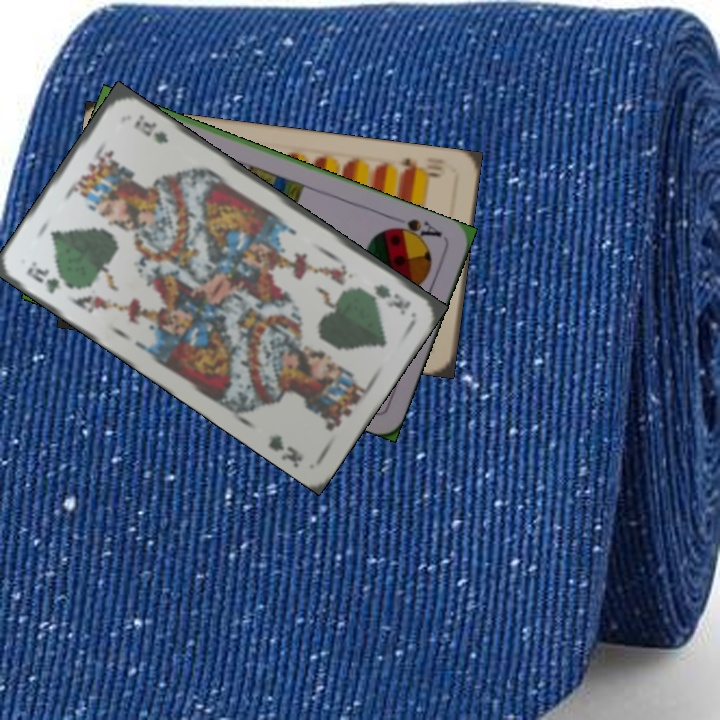E10: (396, 154, 444, 180)
GK: (22, 257, 65, 296), (369, 280, 414, 317)
SA: (386, 215, 444, 246)
